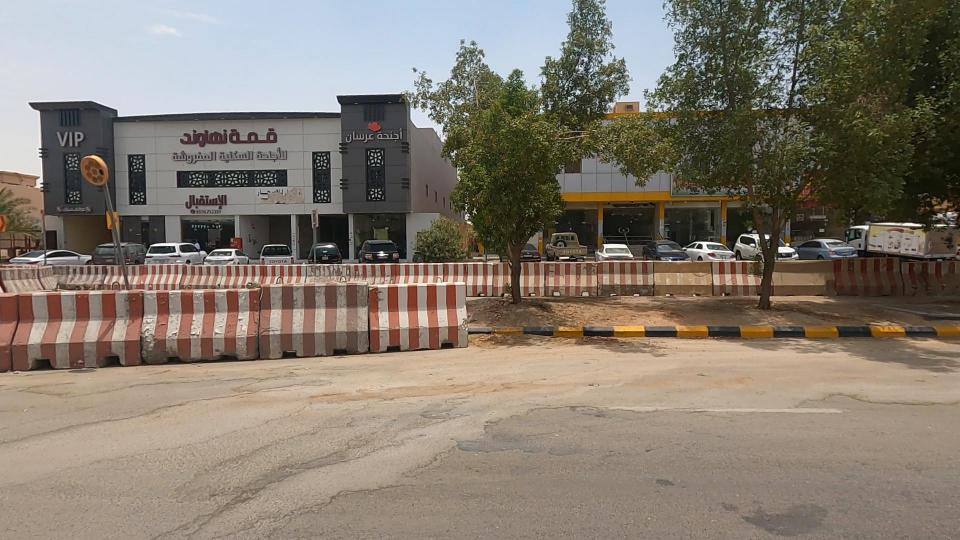CONSTRUCTION_ROAD: (0, 225, 520, 395), (505, 227, 890, 329), (285, 217, 604, 328), (768, 218, 960, 325)
